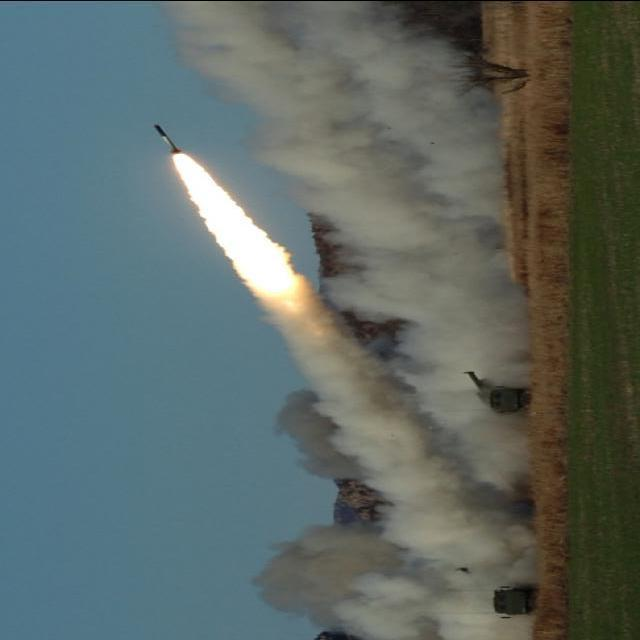missile: (150, 118, 182, 164)
